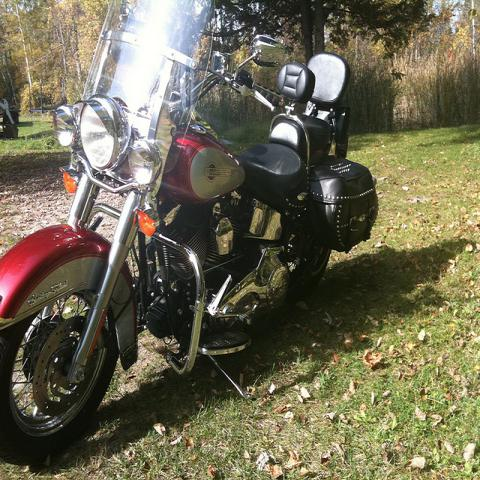motorcycle: (0, 1, 379, 462)
